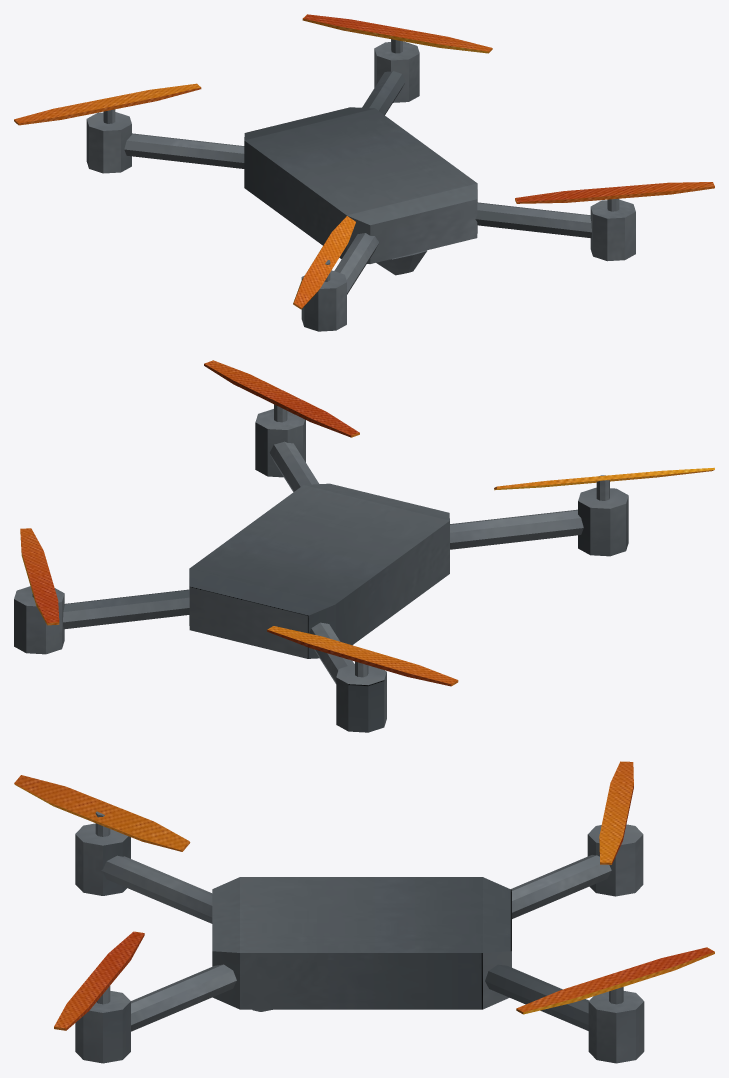
The model's file is dron.fbx.
3 renders of one model, top to bottom at view 1: azimuth 30°, elevation 25°; view 2: azimuth 150°, elevation 25°; view 3: azimuth 270°, elevation 25°, orthographic. The views are drawn at different scales.
Parts seen in each view (by area): view 1: Cube.001; view 2: Cube.001; view 3: Cube.001.
Boxes of the visible parts, bbox=[...] form: Cube.001: bbox=[14, 14, 714, 331]; Cube.001: bbox=[14, 360, 714, 732]; Cube.001: bbox=[14, 761, 714, 1063].
Size of the model in its own units: 118 by 25.19 by 131.
2 materials, 2 textured.
